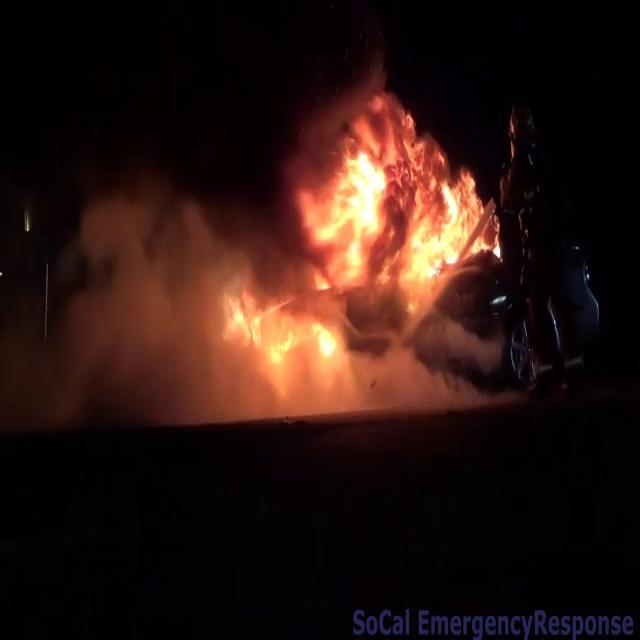Fire: (222, 85, 495, 415)
Smoke: (0, 149, 247, 423)
